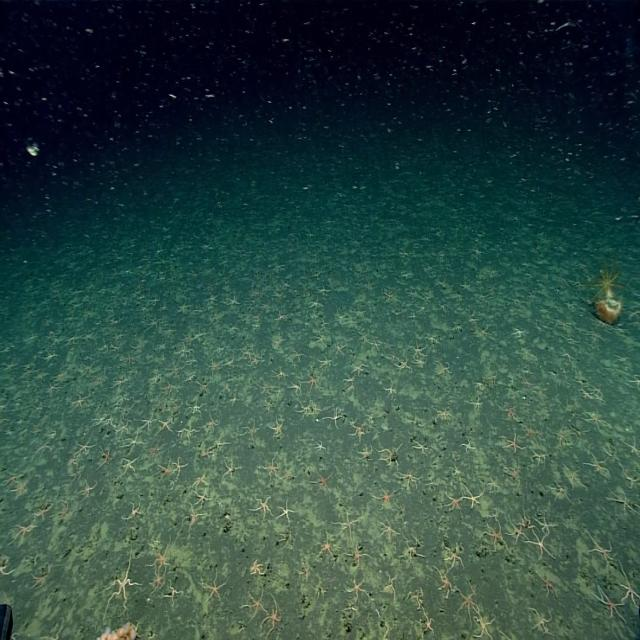brittle-stars: (94, 541, 146, 622), (578, 530, 620, 570), (591, 584, 627, 627), (200, 560, 232, 608), (454, 576, 481, 630), (340, 536, 377, 574), (613, 562, 640, 612), (239, 581, 268, 627), (372, 433, 406, 472), (330, 506, 363, 545), (400, 526, 428, 569), (429, 562, 458, 602), (480, 517, 506, 561), (369, 482, 402, 515), (151, 530, 178, 570), (312, 528, 339, 568), (307, 464, 337, 500), (524, 603, 553, 640), (259, 596, 283, 640), (5, 519, 40, 549), (442, 532, 467, 574), (29, 612, 66, 640), (177, 507, 215, 534), (581, 448, 613, 479), (27, 555, 50, 598), (524, 533, 558, 562), (604, 489, 640, 516), (532, 567, 558, 603), (502, 455, 527, 492), (471, 607, 499, 640), (543, 478, 577, 505), (498, 426, 526, 458), (162, 576, 186, 613), (220, 449, 245, 484), (246, 492, 276, 521), (245, 548, 270, 582), (520, 414, 546, 446), (145, 566, 170, 599), (118, 450, 142, 483), (344, 573, 372, 601), (377, 515, 402, 546), (189, 482, 216, 510), (558, 462, 586, 489), (619, 453, 640, 489), (120, 498, 146, 527), (26, 497, 56, 522), (402, 582, 427, 612), (72, 430, 100, 456), (462, 484, 488, 512), (496, 398, 524, 424), (532, 508, 560, 534), (570, 381, 598, 407), (260, 451, 282, 484), (274, 496, 298, 526), (582, 408, 612, 432), (154, 451, 175, 485), (202, 408, 225, 439), (454, 426, 477, 457), (120, 428, 146, 455), (506, 516, 529, 546), (391, 472, 425, 492), (410, 436, 435, 463), (174, 421, 202, 445), (322, 404, 346, 432), (428, 401, 457, 424), (379, 566, 398, 601), (75, 481, 99, 508), (238, 417, 262, 444), (252, 377, 280, 400), (552, 422, 574, 451), (291, 558, 315, 584), (300, 368, 323, 395), (275, 523, 297, 551), (1, 459, 21, 489), (271, 305, 294, 331), (352, 442, 376, 466), (463, 391, 487, 415), (171, 337, 195, 361), (192, 371, 217, 394), (442, 489, 465, 514), (529, 445, 552, 470), (434, 354, 456, 380), (421, 604, 438, 637), (190, 466, 212, 491), (236, 338, 258, 363), (55, 500, 75, 527), (97, 441, 115, 471), (170, 454, 190, 481), (278, 462, 298, 489), (154, 415, 177, 438), (212, 427, 235, 450), (10, 481, 32, 505), (0, 558, 19, 585), (188, 391, 207, 418), (135, 411, 159, 432), (268, 412, 287, 438), (409, 332, 428, 358), (621, 435, 640, 461), (486, 363, 504, 390), (90, 406, 112, 428), (515, 511, 538, 532), (144, 440, 168, 460), (306, 330, 330, 350), (382, 376, 401, 401), (157, 376, 178, 398), (506, 324, 528, 345), (70, 391, 90, 414), (334, 302, 351, 329), (286, 374, 304, 399), (294, 396, 312, 421), (308, 579, 328, 601), (393, 354, 412, 377), (268, 363, 289, 383), (346, 423, 367, 443), (342, 596, 360, 619), (518, 373, 535, 397), (304, 293, 324, 313), (410, 354, 432, 372), (119, 349, 137, 371), (338, 372, 358, 391), (198, 443, 216, 464), (45, 375, 63, 395), (90, 370, 108, 390), (289, 345, 309, 363), (248, 352, 266, 371), (205, 356, 223, 375), (69, 463, 86, 483), (314, 434, 330, 455), (367, 331, 382, 353), (267, 334, 285, 352), (350, 358, 369, 375), (117, 401, 136, 418), (486, 504, 502, 524), (356, 326, 371, 347), (115, 418, 132, 436), (332, 340, 348, 359), (315, 356, 335, 371), (486, 474, 501, 494), (449, 459, 463, 479), (380, 619, 393, 640), (113, 374, 131, 389), (310, 399, 325, 417), (149, 369, 163, 388), (106, 408, 117, 432), (66, 451, 81, 468), (380, 339, 398, 352), (81, 362, 94, 378), (262, 395, 275, 411), (346, 412, 359, 428), (427, 332, 439, 349), (156, 337, 166, 357), (473, 376, 485, 391), (8, 627, 20, 640)
